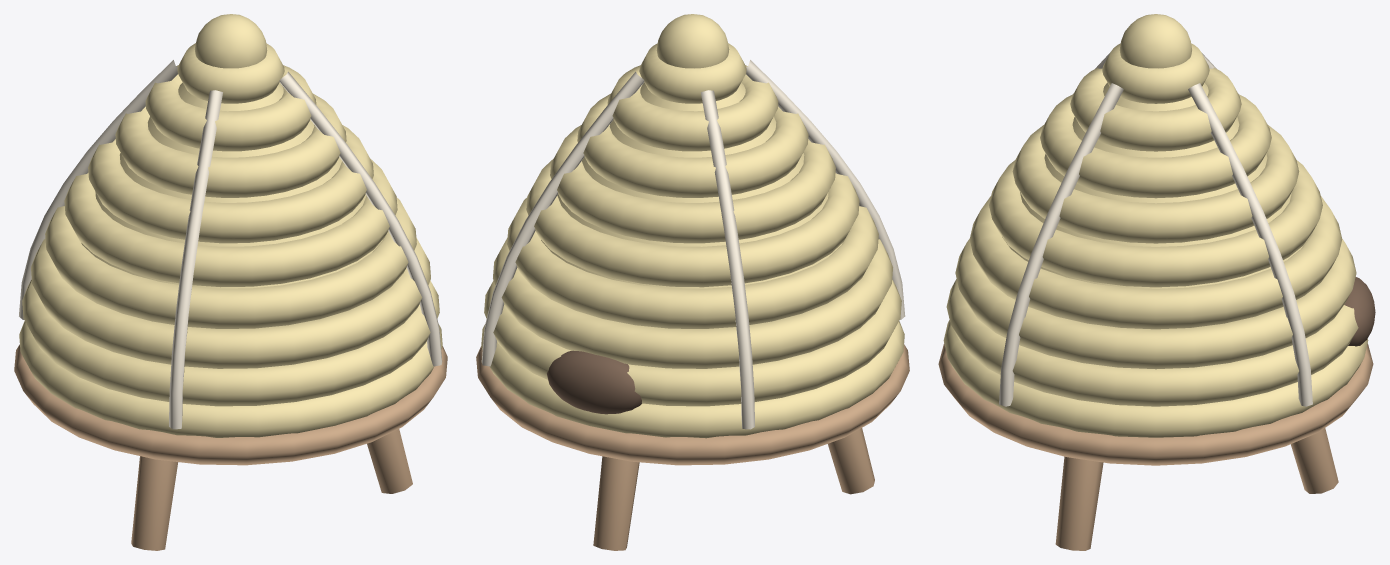
File: HoneySkep.glb
3 views of the same model, side by side, from view 1: azimuth 30°, elevation 25°; view 2: azimuth 150°, elevation 25°; view 3: azimuth 270°, elevation 25° (orthographic).
Parts seen in each view (by area): view 1: Straw, Stool, Bands; view 2: Straw, Stool, Bands, Entrance; view 3: Straw, Stool, Bands, Entrance.
Part boxes in pixels (x1,y1,x2,y2): Straw: (19, 14, 442, 437); Stool: (14, 344, 447, 550); Bands: (19, 60, 442, 429); Straw: (481, 14, 904, 438); Stool: (476, 344, 909, 550); Bands: (481, 60, 905, 429); Entrance: (547, 350, 641, 414); Straw: (943, 14, 1368, 437); Stool: (938, 343, 1373, 550); Bands: (999, 52, 1312, 406); Entrance: (1344, 277, 1375, 346).
Bounding box in the file's own units: 4.2 × 5.04 × 4.22.
